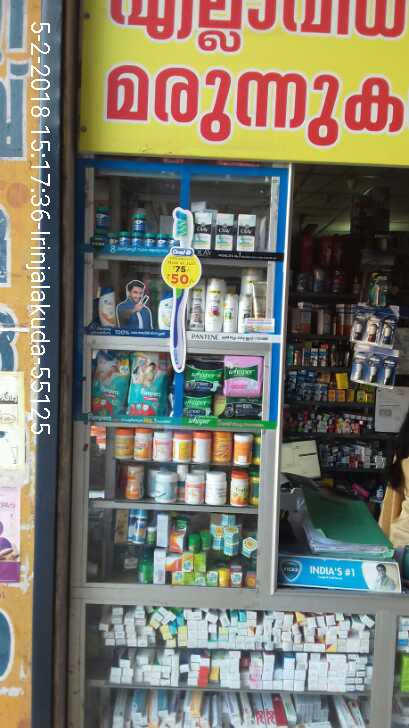vicks: (92, 201, 177, 249)
